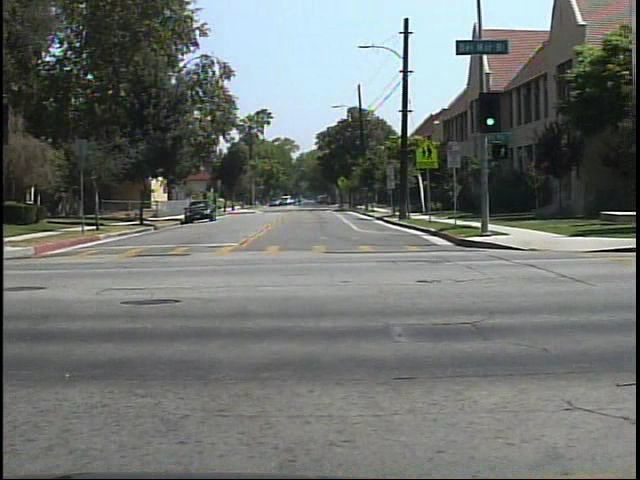person: (294, 193, 308, 211)
